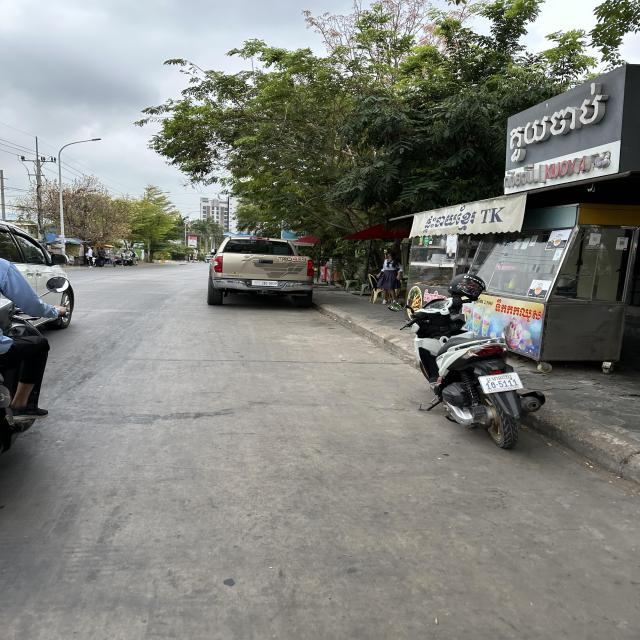Banteay_Meanchey: (486, 373, 511, 382)
